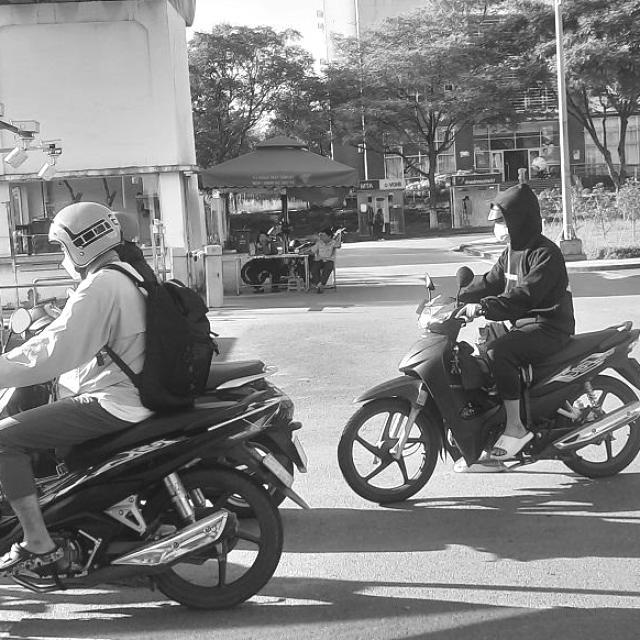Helmet: (44, 199, 128, 272)
